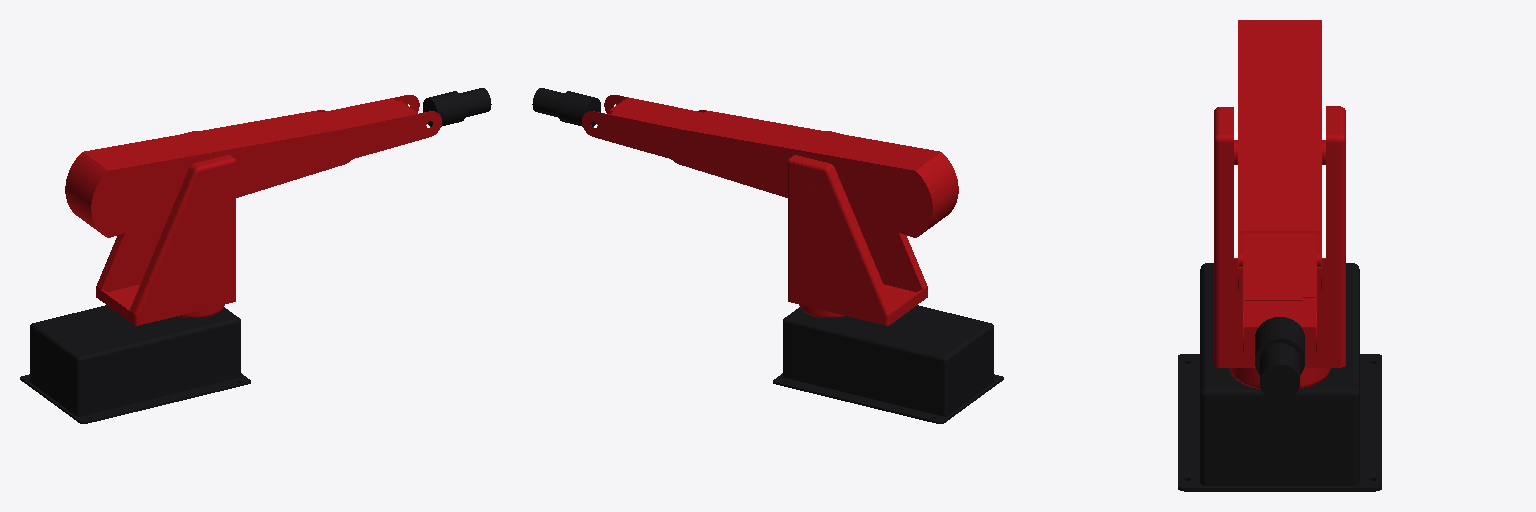
URDF robot description (rob3):
<?xml version="1.0"?>
<!-- ROB3 6-axis robot description - mesh-based, synced to the TR5 3D CAD.

     SOURCE OF TRUTH: the TR5_Roboterarm 3D CAD
     (github.com/Fuchsfuchsfuchs/TR5_Roboterarm, 3D_CAD/TR5_Modell_V1.*).
     The lower 3 axes use the CAD meshes and the CAD-derived link/joint
     transforms (Fusion 360 export). Mesh units are mm -> scale 0.001.

     COMPLETENESS GAP (per 3D_CAD/Information): the CAD model is work in
     progress - the GRIPPER and the two WRIST axes are NOT modelled. Those
     three links (wrist_pitch, wrist_roll, gripper) are PRIMITIVE STAND-INS
     here, clearly marked, so the simulation keeps all six firmware axes.
     Replace them with CAD meshes once the 3D model is completed.

     Provenance:
       [HW/CAD] base_link, tower, upperarm, forearm  (meshes + transforms)
       [INFER]  wrist_pitch, wrist_roll, gripper      (stand-in primitives)

     Joint NAMES and limits are the firmware axis order (see axes.py / README):
       base +80..-80 deg | shoulder +70..-30 | elbow 0..-100
       wrist_pitch +/-100 | wrist_roll +/-100 | gripper 0..60 mm (prismatic)
     The pybullet/text viewers look joints up BY NAME, so these must not change.
-->
<robot name="rob3">

  <material name="rob3_black">
    <!-- base + gripper are black -->
    <color rgba="0.12 0.12 0.13 1"/>
  </material>
  <material name="rob3_red">
    <!-- tower + upper arm + forearm are red -->
    <color rgba="0.70 0.10 0.12 1"/>
  </material>

  <!-- ================= CAD links (source of truth) ================= -->

  <!-- base_link [HW/CAD]: TR5 base_link.stl -->
  <link name="base_link">
    <visual>
      <origin xyz="0 0 0" rpy="0 0 0"/>
      <geometry>
        <mesh filename="meshes/base_link.stl" scale="0.001 0.001 0.001"/>
      </geometry>
      <material name="rob3_black"/>
    </visual>
    <collision>
      <origin xyz="0 0 0" rpy="0 0 0"/>
      <geometry>
        <mesh filename="meshes/base_link.stl" scale="0.001 0.001 0.001"/>
      </geometry>
    </collision>
    <inertial>
      <origin xyz="-0.12 0 0.067" rpy="0 0 0"/>
      <mass value="20.36"/>
      <inertia ixx="0.039666" iyy="0.111871" izz="0.126618" ixy="0" iyz="0" ixz="2e-05"/>
    </inertial>
  </link>

  <!-- tower / Turm [HW/CAD]: TR5_Modell_V1_Turm_v5_1.stl -->
  <link name="link1">
    <visual>
      <origin xyz="0.035 0 -0.1" rpy="0 0 0"/>
      <geometry>
        <mesh filename="meshes/tower.stl" scale="0.001 0.001 0.001"/>
      </geometry>
      <material name="rob3_red"/>
    </visual>
    <collision>
      <origin xyz="0.035 0 -0.1" rpy="0 0 0"/>
      <geometry>
        <mesh filename="meshes/tower.stl" scale="0.001 0.001 0.001"/>
      </geometry>
    </collision>
    <inertial>
      <origin xyz="-0.015 0 0.074" rpy="0 0 0"/>
      <mass value="2.5676"/>
      <inertia ixx="0.013649" iyy="0.014024" izz="0.007713" ixy="0" iyz="-1e-06" ixz="-0.000433"/>
    </inertial>
  </link>

  <!-- upperarm / Oberarm [HW/CAD]: TR5_Modell_V1_Oberarm_v8_1.stl -->
  <link name="link2">
    <visual>
      <origin xyz="0.035 0.052 -0.3" rpy="0 0 0"/>
      <geometry>
        <mesh filename="meshes/upperarm.stl" scale="0.001 0.001 0.001"/>
      </geometry>
      <material name="rob3_red"/>
    </visual>
    <collision>
      <origin xyz="0.035 0.052 -0.3" rpy="0 0 0"/>
      <geometry>
        <mesh filename="meshes/upperarm.stl" scale="0.001 0.001 0.001"/>
      </geometry>
    </collision>
    <inertial>
      <origin xyz="-0.0005 0.052 0.0006" rpy="0 0 0"/>
      <mass value="0.8917"/>
      <inertia ixx="0.001415" iyy="0.010071" izz="0.010112" ixy="0" iyz="0" ixz="-9.3e-05"/>
    </inertial>
  </link>

  <!-- forearm / Unterarm [HW/CAD]: TR5_Modell_V1_Unterarm_v4_1.stl.
       In this link frame the mesh runs x = -0.023 .. 0.148 (tip at ~0.148). -->
  <link name="link3">
    <visual>
      <origin xyz="-0.165 0.033 -0.3" rpy="0 0 0"/>
      <geometry>
        <mesh filename="meshes/forearm.stl" scale="0.001 0.001 0.001"/>
      </geometry>
      <material name="rob3_red"/>
    </visual>
    <collision>
      <origin xyz="-0.165 0.033 -0.3" rpy="0 0 0"/>
      <geometry>
        <mesh filename="meshes/forearm.stl" scale="0.001 0.001 0.001"/>
      </geometry>
    </collision>
    <inertial>
      <origin xyz="0.044 0.033 0.001" rpy="0 0 0"/>
      <mass value="0.2256"/>
      <inertia ixx="0.000178" iyy="0.000502" izz="0.000563" ixy="1e-06" iyz="0" ixz="-1.3e-05"/>
    </inertial>
  </link>

  <!-- =========== CAD-MISSING stand-in links [INFER] ===========
       The 3D CAD does not model the wrist (pitch/roll) or the gripper
       (3D_CAD/Information: "the Gripper is missing and also some Details").
       These are primitive placeholders attached at the forearm tip so the
       firmware's 6-axis state still renders. Geometry is approximate; replace
       with CAD meshes when the 3D model is completed. -->

  <!-- STAND-IN: wrist pitch housing -->
  <link name="link4">
    <visual>
      <origin xyz="0.02 0 0" rpy="0 1.5708 0"/>
      <geometry>
        <cylinder length="0.04" radius="0.02"/>
      </geometry>
      <material name="rob3_black"/>
    </visual>
    <collision>
      <origin xyz="0.02 0 0" rpy="0 1.5708 0"/>
      <geometry>
        <cylinder length="0.04" radius="0.02"/>
      </geometry>
    </collision>
    <inertial>
      <mass value="0.1"/>
      <inertia ixx="1e-4" ixy="0" ixz="0" iyy="1e-4" iyz="0" izz="1e-4"/>
    </inertial>
  </link>

  <!-- STAND-IN: wrist roll stub -->
  <link name="link5">
    <visual>
      <origin xyz="0.02 0 0" rpy="0 1.5708 0"/>
      <geometry>
        <cylinder length="0.04" radius="0.016"/>
      </geometry>
      <material name="rob3_black"/>
    </visual>
    <collision>
      <origin xyz="0.02 0 0" rpy="0 1.5708 0"/>
      <geometry>
        <cylinder length="0.04" radius="0.016"/>
      </geometry>
    </collision>
    <inertial>
      <mass value="0.08"/>
      <inertia ixx="1e-4" ixy="0" ixz="0" iyy="1e-4" iyz="0" izz="1e-4"/>
    </inertial>
  </link>

  <!-- STAND-IN: gripper body -->
  <!-- Gripper (axis 5): CAD mesh built from bench measurements by
       cad/gripper.py (OPEN pose, Ø17×50 cylinder + palm + two-finger four-bar).
       Mesh is in mm (scale 0.001). Its cylinder runs +Z and fingers -Z in the
       mesh frame; rpy rotates it so the cylinder aligns with the wrist mount.
       See hardware/mechanics.md (Gripper) for the dimensions. -->
  <link name="gripper_link">
    <visual>
      <origin xyz="0 0 0" rpy="0 0 -1.5708"/>
      <geometry>
        <mesh filename="meshes/gripper.stl" scale="0.001 0.001 0.001"/>
      </geometry>
      <material name="rob3_black"/>
    </visual>
    <collision>
      <origin xyz="0 0 0" rpy="0 0 -1.5708"/>
      <geometry>
        <mesh filename="meshes/gripper.stl" scale="0.001 0.001 0.001"/>
      </geometry>
    </collision>
    <inertial>
      <mass value="0.1"/>
      <inertia ixx="1e-4" ixy="0" ixz="0" iyy="1e-4" iyz="0" izz="1e-4"/>
    </inertial>
  </link>

  <!-- ================= Joints ================= -->

  <!-- Axis 0: base rotation (q1) +80..-80 deg  [CAD joint "Umdrehung 14", axis Z] -->
  <joint name="base" type="revolute">
    <parent link="base_link"/>
    <child link="link1"/>
    <origin xyz="-0.035 0 0.1" rpy="0 0 0"/>
    <axis xyz="0 0 1"/>
    <limit lower="-1.3962634" upper="1.3962634" effort="10" velocity="1.0"/>
  </joint>

  <!-- Axis 1: shoulder (q2) +70..-30 deg  [CAD joint "Gelenk 2", axis Y] -->
  <joint name="shoulder" type="revolute">
    <parent link="link1"/>
    <child link="link2"/>
    <origin xyz="0 -0.052 0.2" rpy="0 0 0"/>
    <axis xyz="0 1 0"/>
    <limit lower="-0.5235987" upper="1.2217304" effort="10" velocity="1.0"/>
  </joint>

  <!-- Axis 2: elbow (q3) 0..-100 deg  [CAD joint "Gelenk 3", axis Y] -->
  <joint name="elbow" type="revolute">
    <parent link="link2"/>
    <child link="link3"/>
    <origin xyz="0.2 0.019 0" rpy="0 0 0"/>
    <axis xyz="0 1 0"/>
    <limit lower="-1.7453292" upper="0.0" effort="8" velocity="1.0"/>
  </joint>

  <!-- Axis 3: wrist pitch (q4) +/-100 deg  [STAND-IN: not in CAD].
       Attached at the forearm tip (link3 frame x ~= 0.148, y ~= 0.033). -->
  <joint name="wrist_pitch" type="revolute">
    <parent link="link3"/>
    <child link="link4"/>
    <origin xyz="0.148 0.033 0" rpy="0 0 0"/>
    <axis xyz="0 1 0"/>
    <limit lower="-1.7453292" upper="1.7453292" effort="5" velocity="1.5"/>
  </joint>

  <!-- Axis 4: wrist roll (q5) +/-100 deg  [STAND-IN: not in CAD] -->
  <joint name="wrist_roll" type="revolute">
    <parent link="link4"/>
    <child link="link5"/>
    <origin xyz="0.04 0 0" rpy="0 0 0"/>
    <axis xyz="1 0 0"/>
    <limit lower="-1.7453292" upper="1.7453292" effort="5" velocity="1.5"/>
  </joint>

  <!-- Axis 5: gripper linear opening 0..60 mm (prismatic)  [STAND-IN: not in CAD] -->
  <joint name="gripper" type="prismatic">
    <parent link="link5"/>
    <child link="gripper_link"/>
    <origin xyz="0.04 0 0" rpy="0 0 0"/>
    <axis xyz="0 1 0"/>
    <limit lower="0.0" upper="0.060" effort="20" velocity="0.05"/>
  </joint>

</robot>

--- Facts derived from the render (not from the file) ---
The picture shows the robot from 3 angles, left to right: view 1: azimuth 30°, elevation 25°; view 2: azimuth 150°, elevation 25°; view 3: azimuth 270°, elevation 25°; orthographic projection.
Model rob3 with 7 links and 6 joints (5 revolute, 1 prismatic), rooted at base_link, posed every joint at zero.
Links seen in each view (by area): view 1: base_link, link2, link1, link3, link4, link5; view 2: base_link, link2, link1, link3, link4, link5; view 3: base_link, link2, link1, link3, link5, link4.
Boxes of the visible links, box(x1,y1,x2,y2) form: base_link: box(20, 305, 250, 423); link2: box(65, 110, 359, 237); link1: box(96, 131, 235, 325); link3: box(321, 95, 441, 158); link4: box(423, 91, 465, 126); link5: box(459, 88, 491, 117); base_link: box(773, 305, 1003, 423); link2: box(664, 110, 958, 237); link1: box(788, 131, 927, 325); link3: box(582, 95, 702, 158); link4: box(558, 91, 600, 126); link5: box(532, 88, 564, 117); base_link: box(1178, 263, 1381, 491); link2: box(1234, 20, 1325, 291); link1: box(1214, 106, 1345, 389); link3: box(1239, 231, 1320, 352); link5: box(1260, 343, 1299, 400); link4: box(1255, 317, 1304, 374).
Bounding box of the posed robot: 0.638 × 0.16 × 0.3223 m (x, y, z).
Meshes: 5 distinct files referenced, 4 mesh visuals loaded (4 binary STL); not drawn: 1 (reference not matched to a file when rendering).
